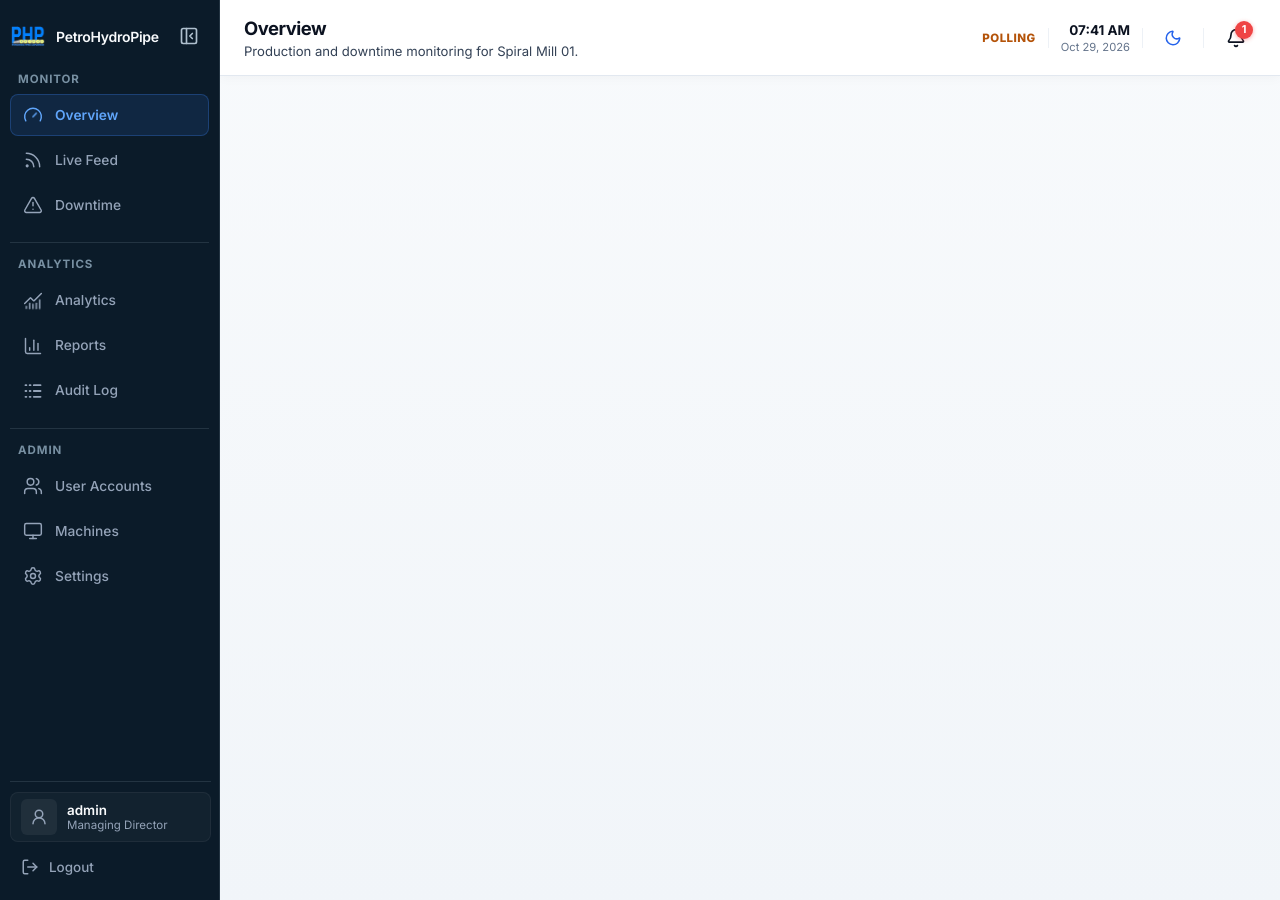
Test: AdminDashboard alerts › replays an acknowledgement completed while fallback polling is in flight
The width and height of the screenshot is (1280, 900).
Click the button named "open alerts, 1 active" at (1236, 38), box [1216, 18, 1256, 58]
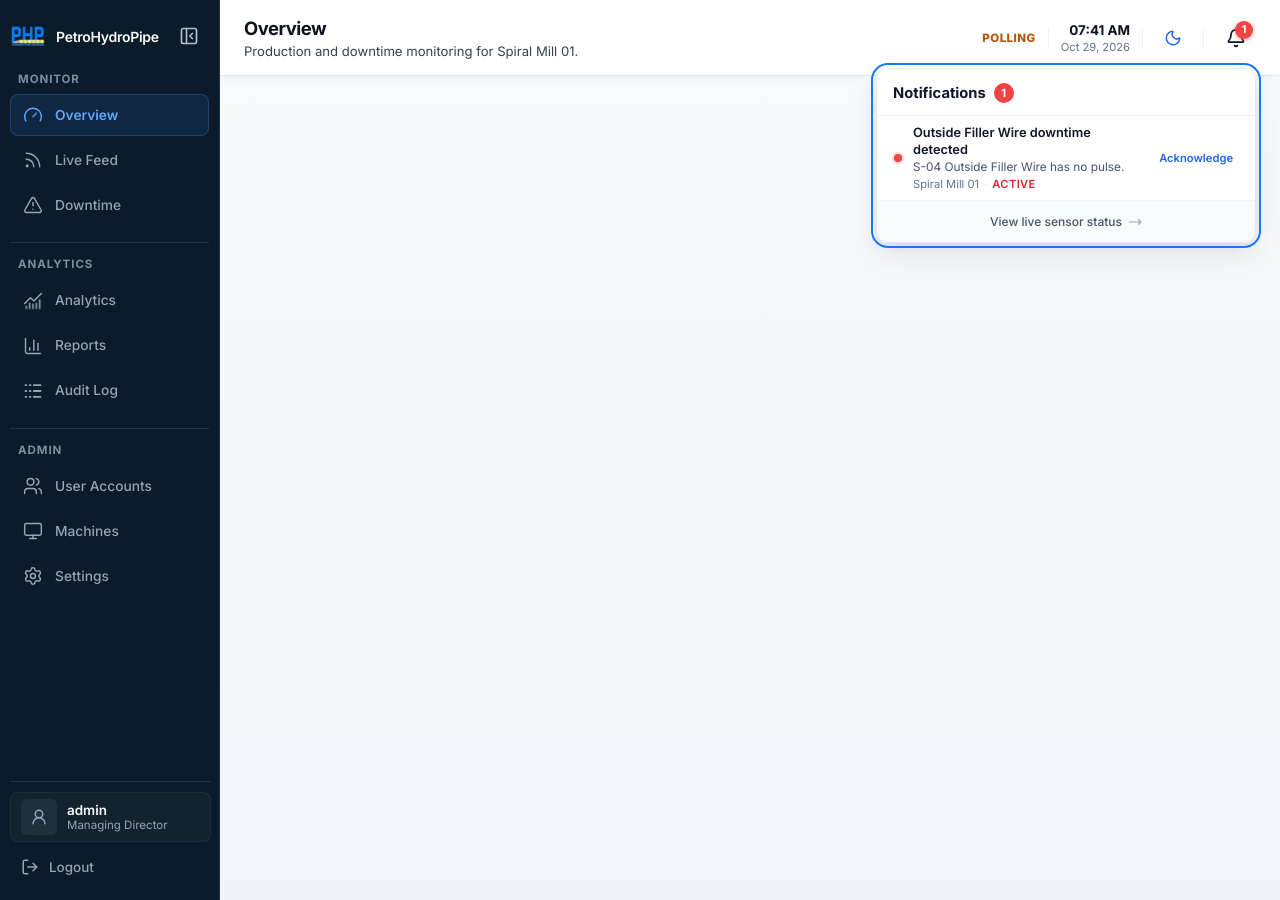
Click the button "Acknowledge" at (1196, 158), box [1151, 146, 1241, 170]
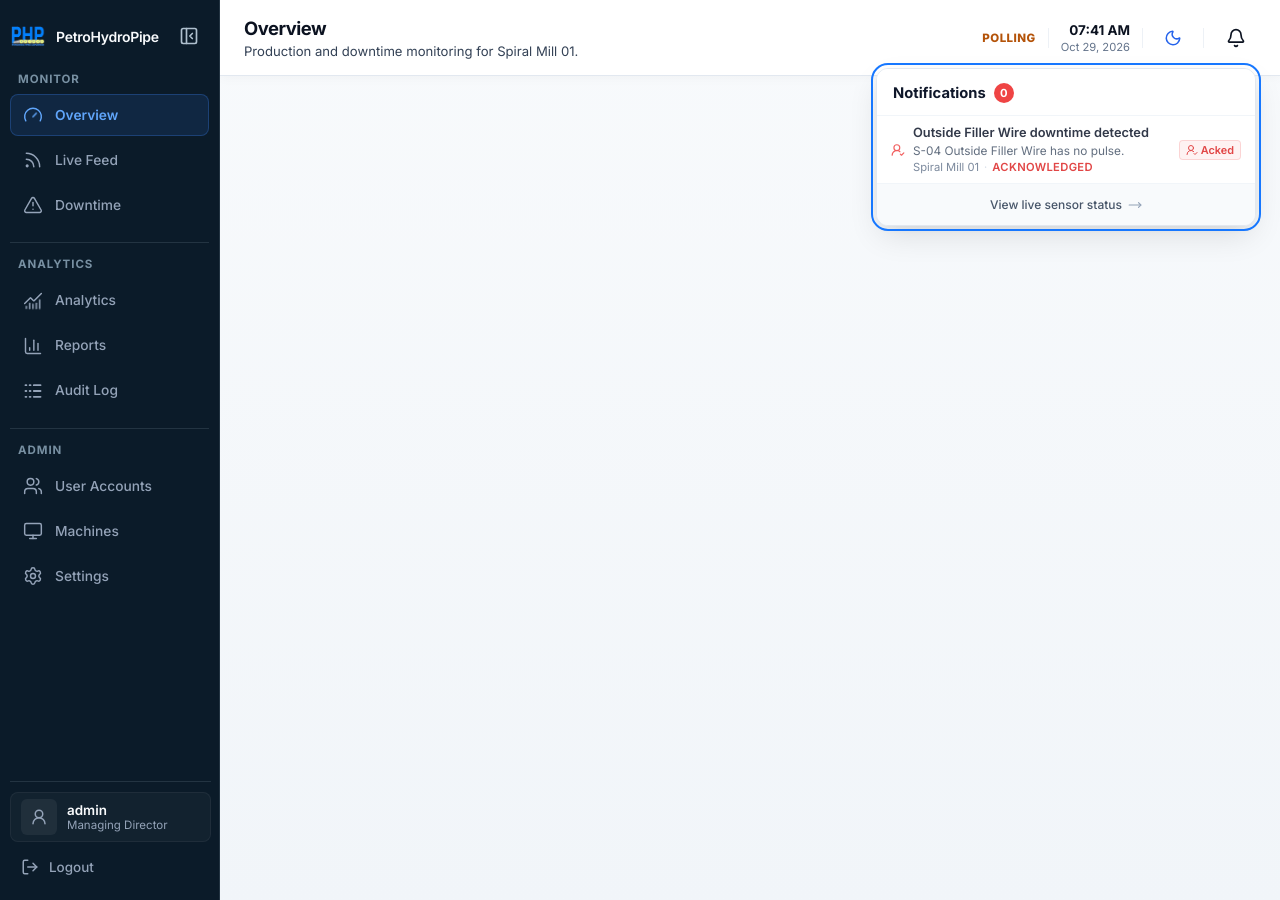
Expected: the text "Acknowledged" is shown, [992, 160, 1093, 174]
Expected: the button named "open alerts, none active" is shown, [1216, 18, 1256, 58]
